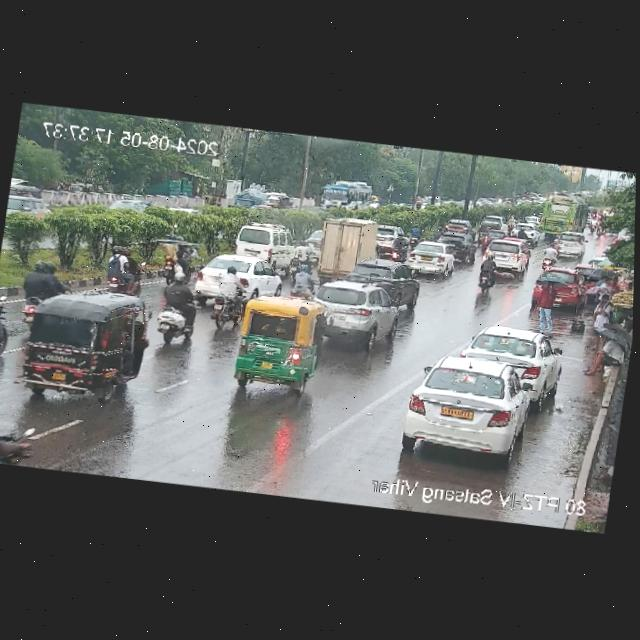bus: (535, 190, 591, 238)
car: (0, 280, 150, 406), (396, 350, 548, 464), (229, 291, 324, 389), (306, 274, 411, 344), (462, 323, 559, 393), (187, 251, 284, 303), (230, 220, 298, 264), (346, 255, 422, 289), (398, 241, 458, 276), (529, 269, 583, 304), (478, 238, 529, 273), (549, 233, 587, 258), (431, 228, 474, 245), (376, 224, 404, 249), (440, 217, 474, 233), (476, 216, 507, 231)
motorcycle: (14, 259, 72, 322), (151, 273, 201, 345), (101, 245, 144, 296), (0, 292, 16, 370), (469, 255, 503, 290), (540, 244, 560, 269)
person: (582, 337, 627, 380), (527, 278, 559, 326), (590, 294, 613, 335)
truck: (302, 213, 382, 286), (287, 265, 318, 299)
